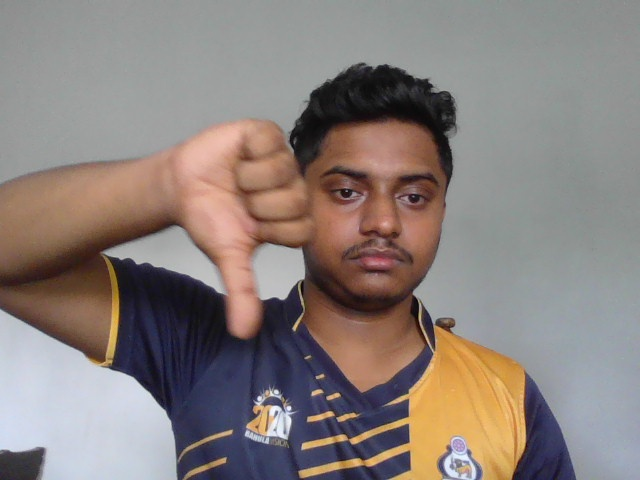Disagree: (172, 116, 314, 341)
